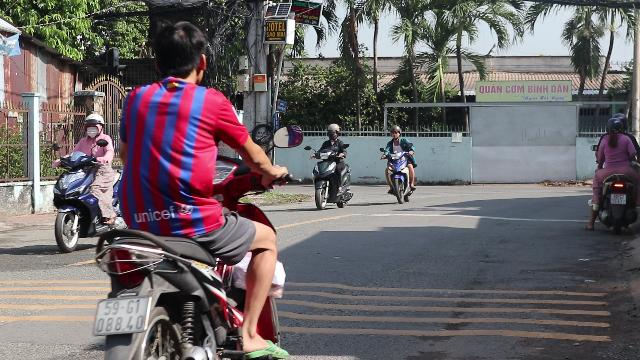helmet: (83, 112, 105, 136), (604, 117, 624, 137)
licenseplate: (94, 298, 148, 332), (610, 194, 626, 204)
motorcyclist: (85, 17, 298, 356), (48, 112, 120, 252), (584, 113, 640, 235)
nohelmet: (146, 20, 208, 84)
